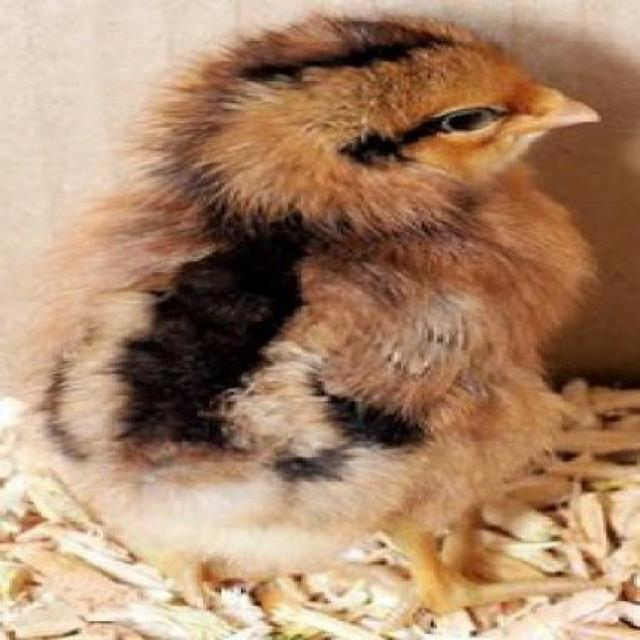poussin: (49, 15, 604, 605)
